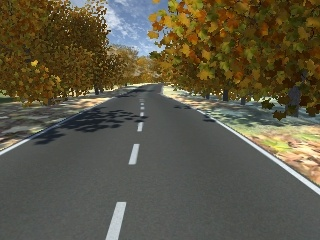Line slipt: (128, 110, 146, 167)
